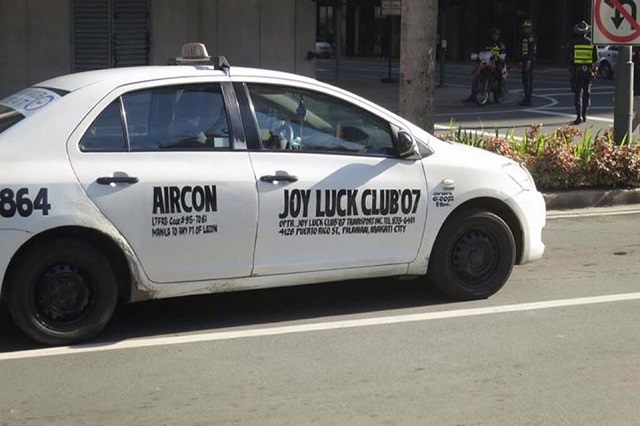bike: (475, 50, 508, 106)
car: (3, 65, 547, 345)
person: (572, 21, 592, 121), (520, 20, 537, 106), (483, 29, 505, 65)
pole: (400, 2, 436, 128), (615, 47, 633, 144)
